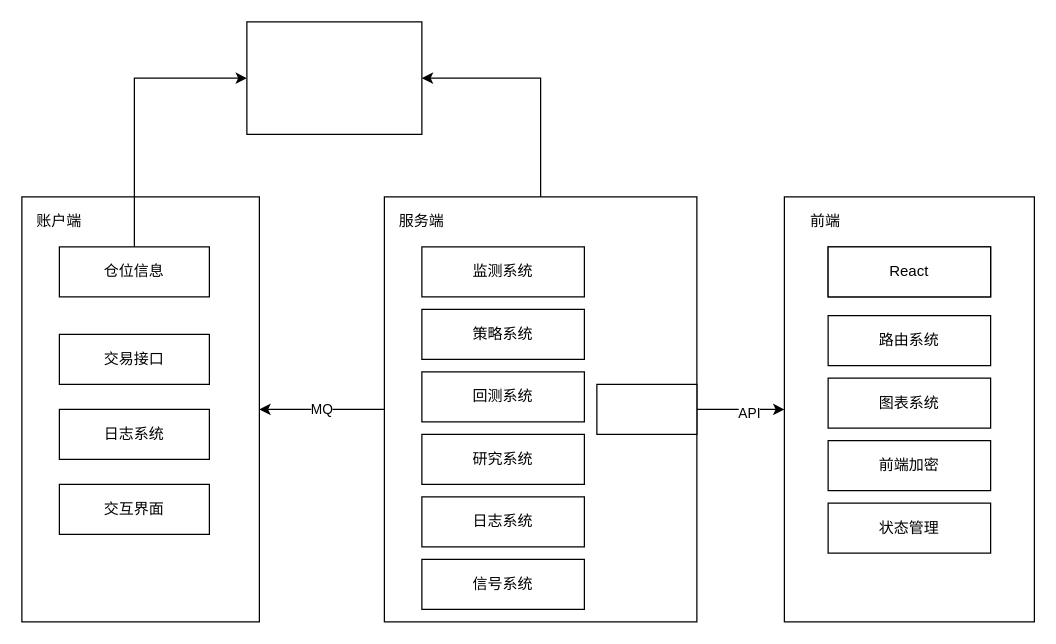
Image size: 1056x644. Some labels were removed from this diagram. The shapes that lost their labels are listed below. From the top down, each one's centre as x and y in pixels, then its label:
the point at 334,77: 数据库
the point at 646,408: 视图管理
